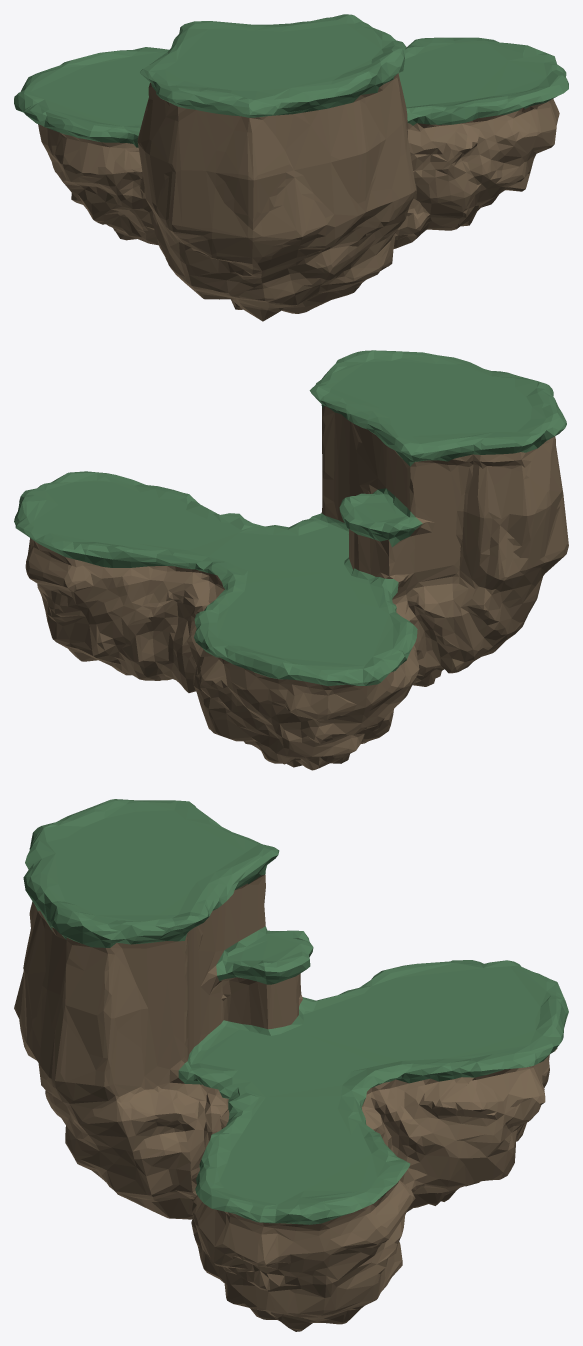
File: StackedIsland.fbx
The picture shows the model from 3 angles, top to bottom: view 1: azimuth 30°, elevation 25°; view 2: azimuth 150°, elevation 25°; view 3: azimuth 270°, elevation 25°; orthographic projection. The views are drawn at different scales.
Visible parts, largest first — view 1: polySurface1; view 2: polySurface1; view 3: polySurface1.
Part boxes in pixels (x1,y1,x2,y2): polySurface1: [14, 14, 568, 321]; polySurface1: [14, 350, 568, 770]; polySurface1: [14, 799, 568, 1331].
Bounding box in the file's own units: 25.3 × 14.78 × 22.31.
